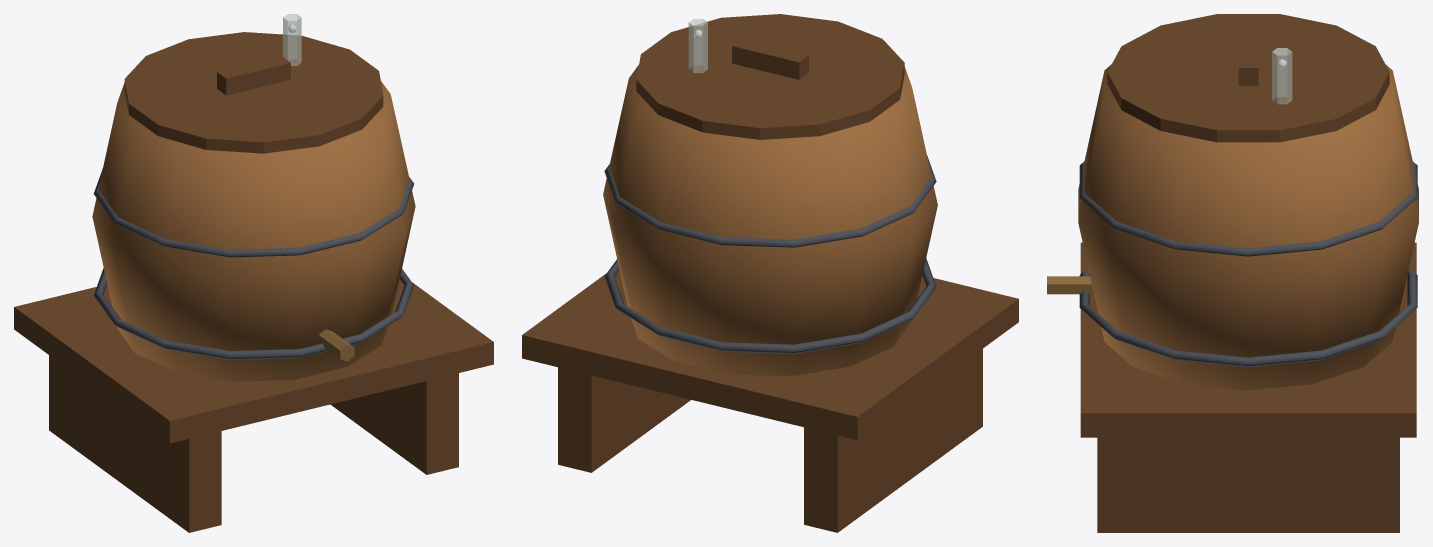
Rendered from BrewingBarrel@LidOpen.fbx.
3 renders of one model, left to right at view 1: azimuth 30°, elevation 25°; view 2: azimuth 150°, elevation 25°; view 3: azimuth 270°, elevation 25°, orthographic. The views are drawn at different scales.
Parts seen in each view (by area): view 1: BrewingBarrel_Body, BrewingBarrel_Lid, BrewingBarrel_Airlock_Fermenting; view 2: BrewingBarrel_Body, BrewingBarrel_Lid, BrewingBarrel_Airlock_Fermenting; view 3: BrewingBarrel_Body, BrewingBarrel_Lid, BrewingBarrel_Airlock_Fermenting.
Boxes of the visible parts, x1,y1,x2,y2 form: BrewingBarrel_Body: [14, 81, 493, 532]; BrewingBarrel_Lid: [124, 32, 383, 153]; BrewingBarrel_Airlock_Fermenting: [283, 14, 301, 65]; BrewingBarrel_Body: [522, 65, 1018, 532]; BrewingBarrel_Lid: [636, 14, 904, 139]; BrewingBarrel_Airlock_Fermenting: [688, 19, 707, 72]; BrewingBarrel_Body: [1047, 64, 1418, 532]; BrewingBarrel_Lid: [1107, 14, 1389, 142]; BrewingBarrel_Airlock_Fermenting: [1272, 48, 1292, 104].
Bounding box in the file's own units: 0.6 × 0.72 × 0.5535.
